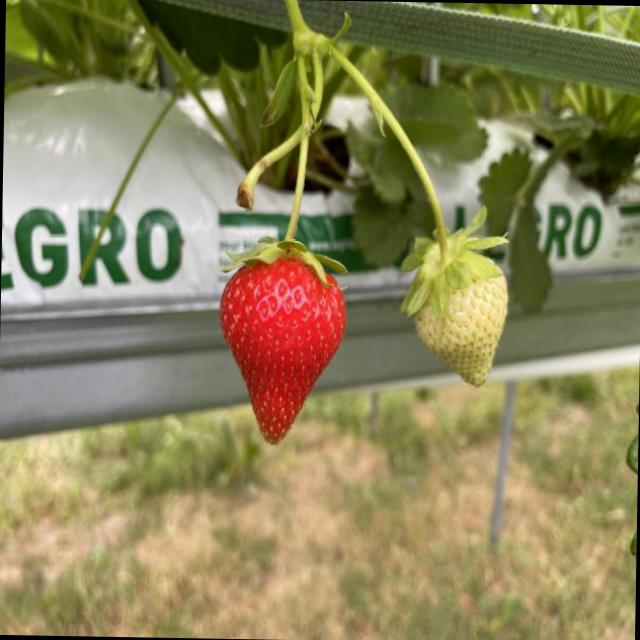stem: (329, 46, 507, 318), (227, 134, 345, 285)
strawberryNR: (413, 275, 507, 385)
strawberryR: (220, 257, 345, 442)
